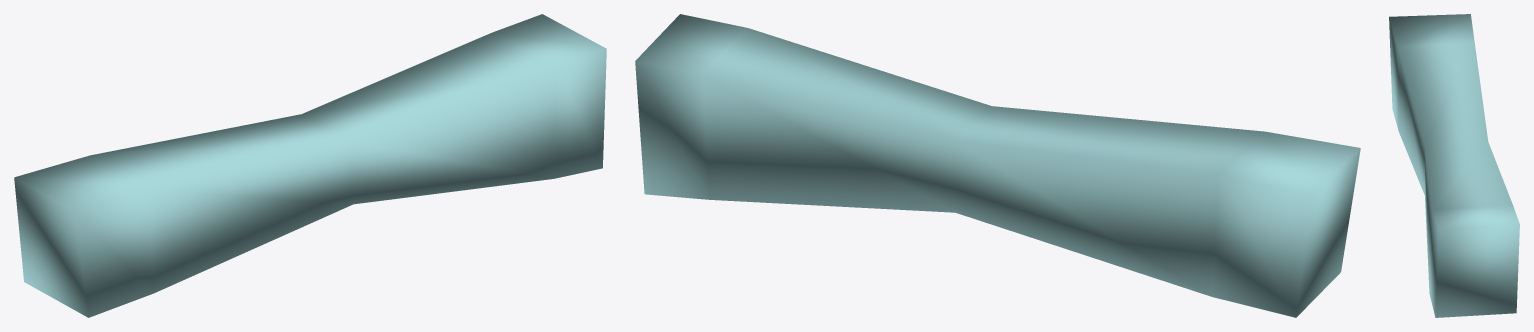
The model's file is Skelly_palm.03.L.fbx.
3 views of the same model, side by side, from view 1: azimuth 30°, elevation 25°; view 2: azimuth 150°, elevation 25°; view 3: azimuth 270°, elevation 25° (orthographic). The views are drawn at different scales.
Visible parts, largest first — view 1: Skelly_palm.03.L; view 2: Skelly_palm.03.L; view 3: Skelly_palm.03.L.
Boxes of the visible parts, box(x1,y1,x2,y2) form: Skelly_palm.03.L: box(14, 14, 606, 317); Skelly_palm.03.L: box(635, 14, 1360, 317); Skelly_palm.03.L: box(1389, 14, 1519, 317).
Bounding box in the file's own units: 8.57 × 1.67 × 2.17.
